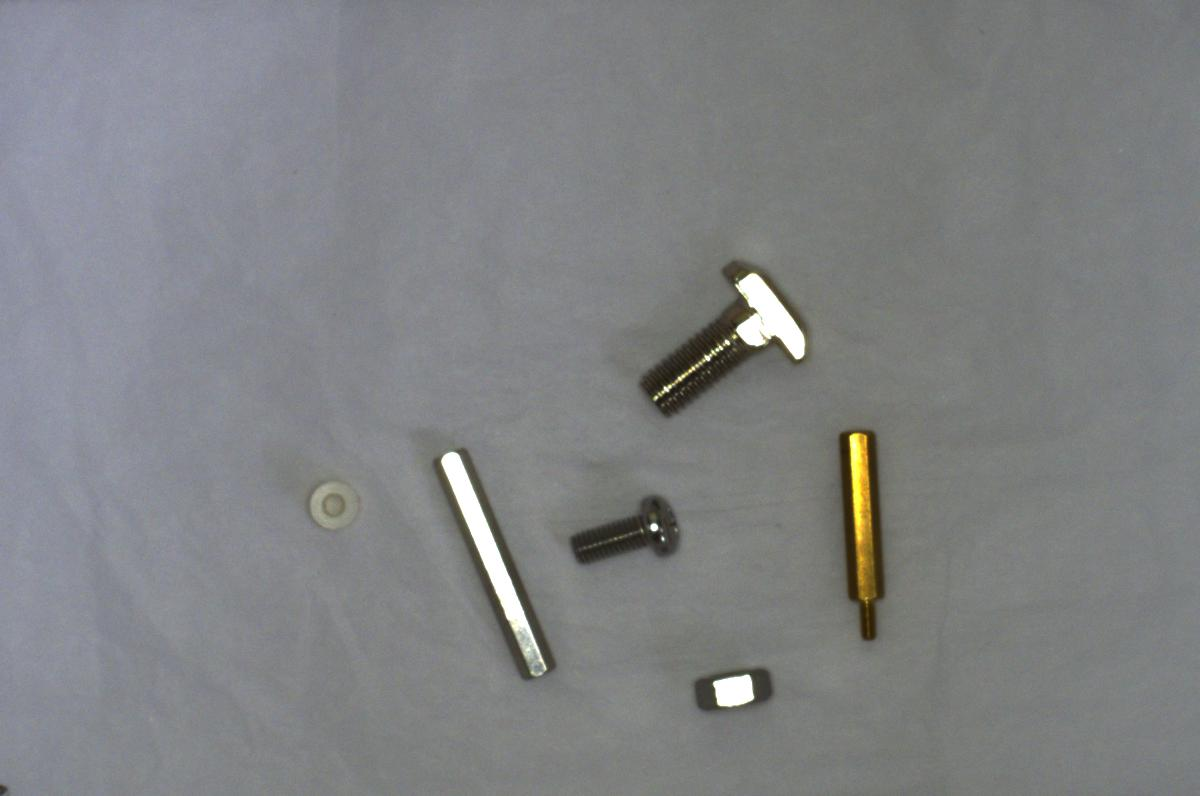Double hexagonal column: (425, 438, 558, 689)
Hexagon nut: (678, 659, 793, 720)
Hexagon pillar: (830, 419, 894, 648)
Plastic cushion pillar: (299, 469, 372, 540)
Round head screw: (571, 490, 684, 566)
T-shaped screw: (632, 256, 810, 413)
